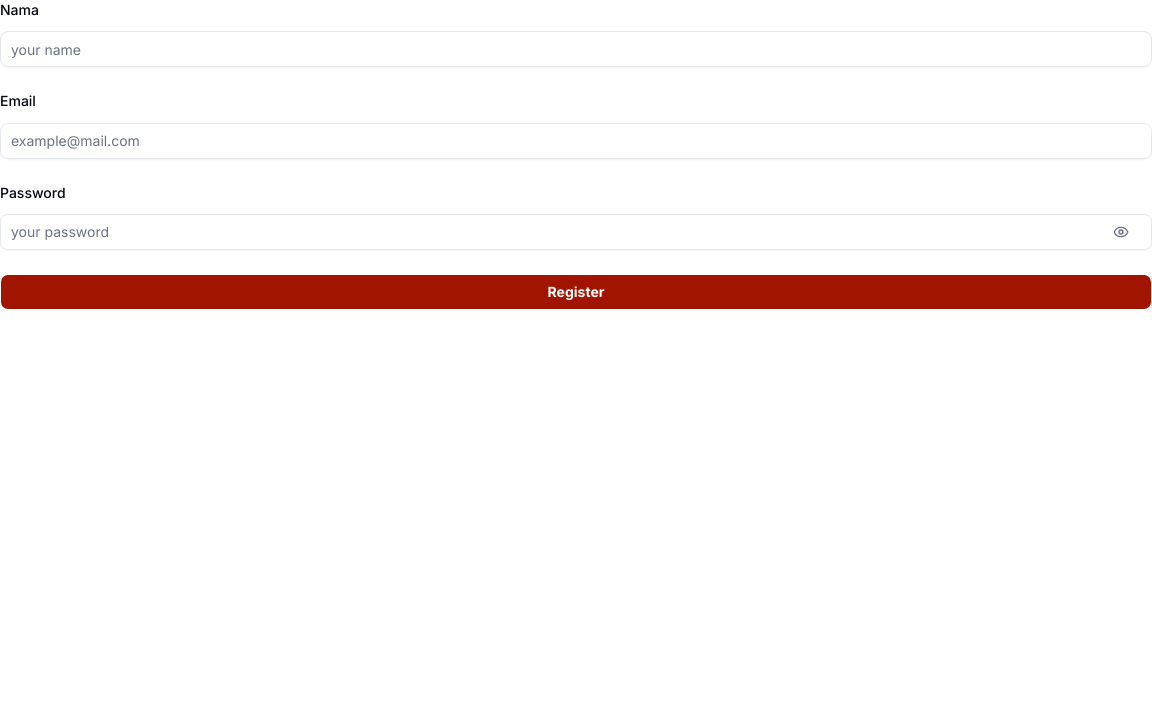
Test: Test Register Success / Failed › should show error dialog when user register failed
# Fill in the form
In the field with placeholder "your name": (576, 49) 0,31 -> 1151,67, type "Jane Doe"
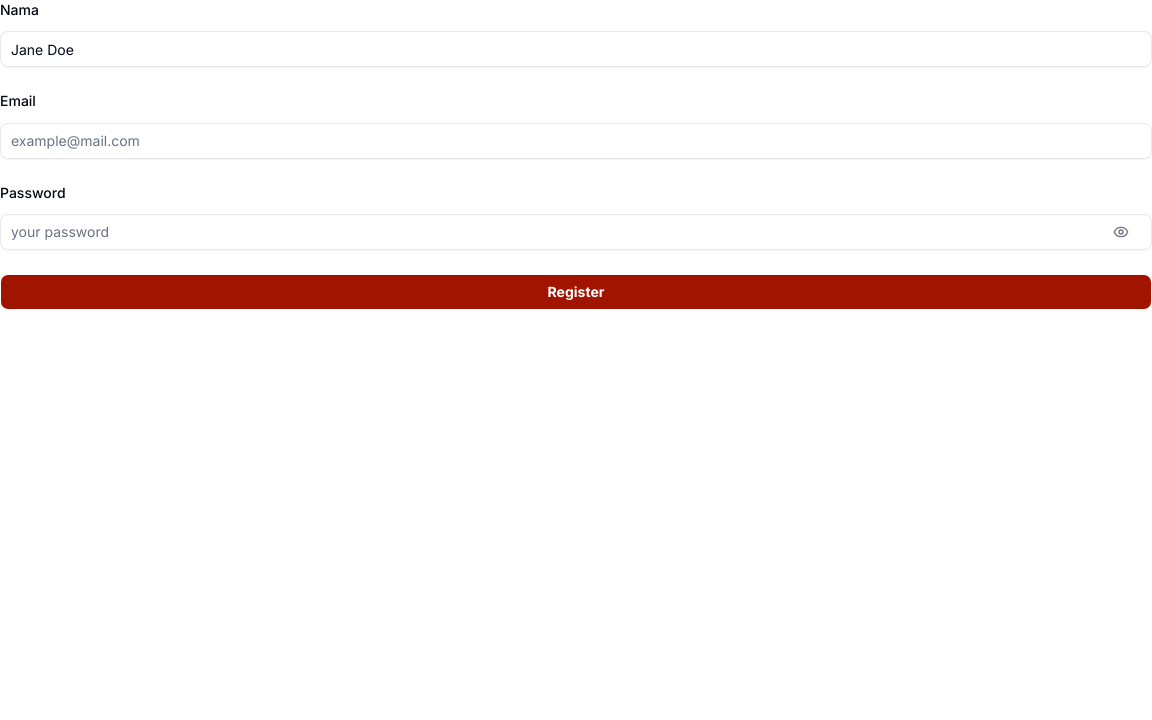
In the field with placeholder "example@mail.com": (576, 140) 0,122 -> 1151,158, type "existing@example.com"
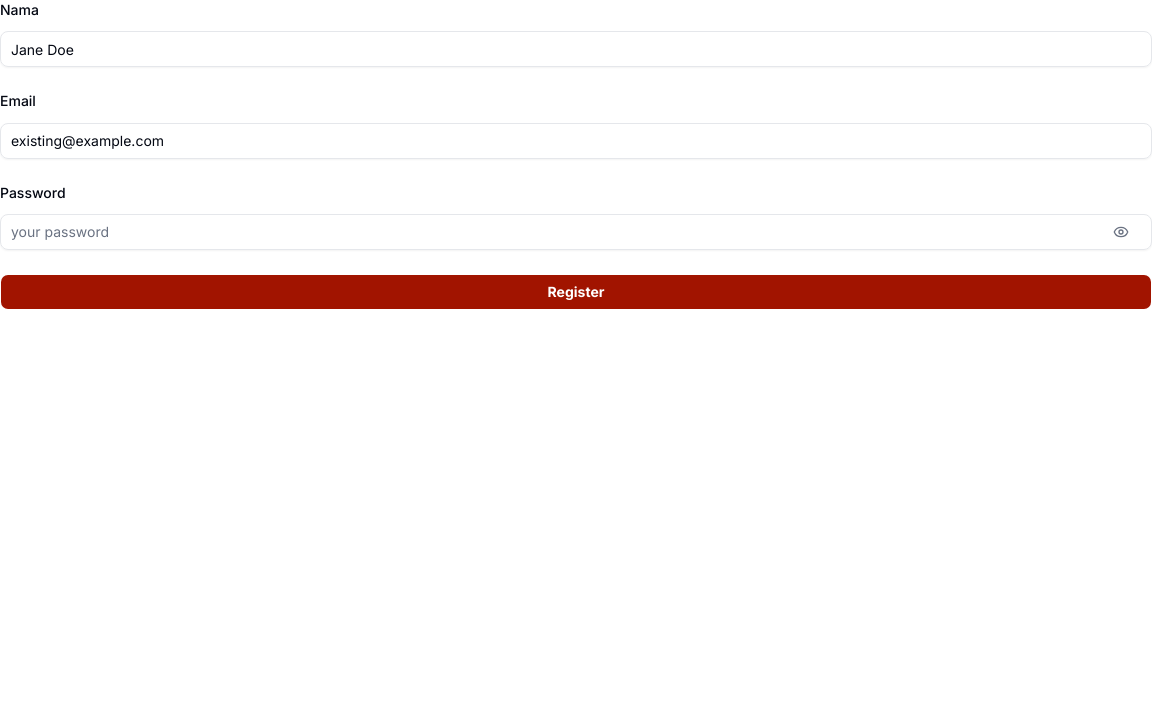
In the password field with placeholder "your password": (576, 232) 0,214 -> 1151,250, type "password123"
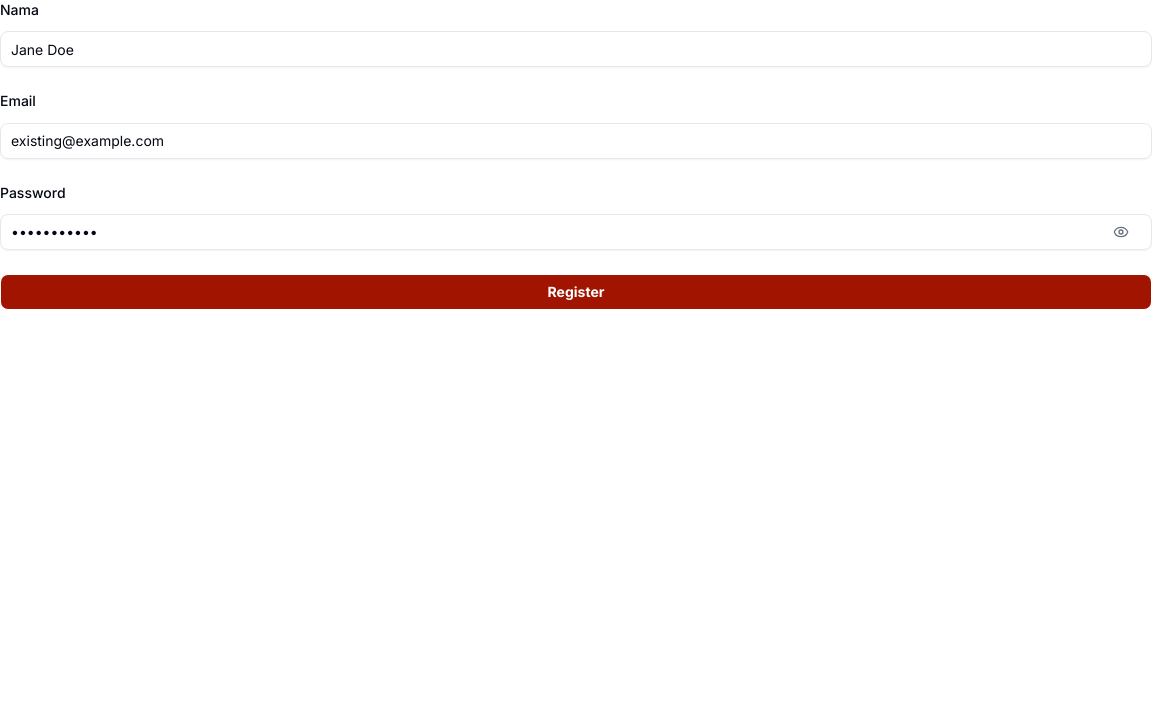
# Submit the form
Click the button "Register": (576, 292) 0,274 -> 1151,310
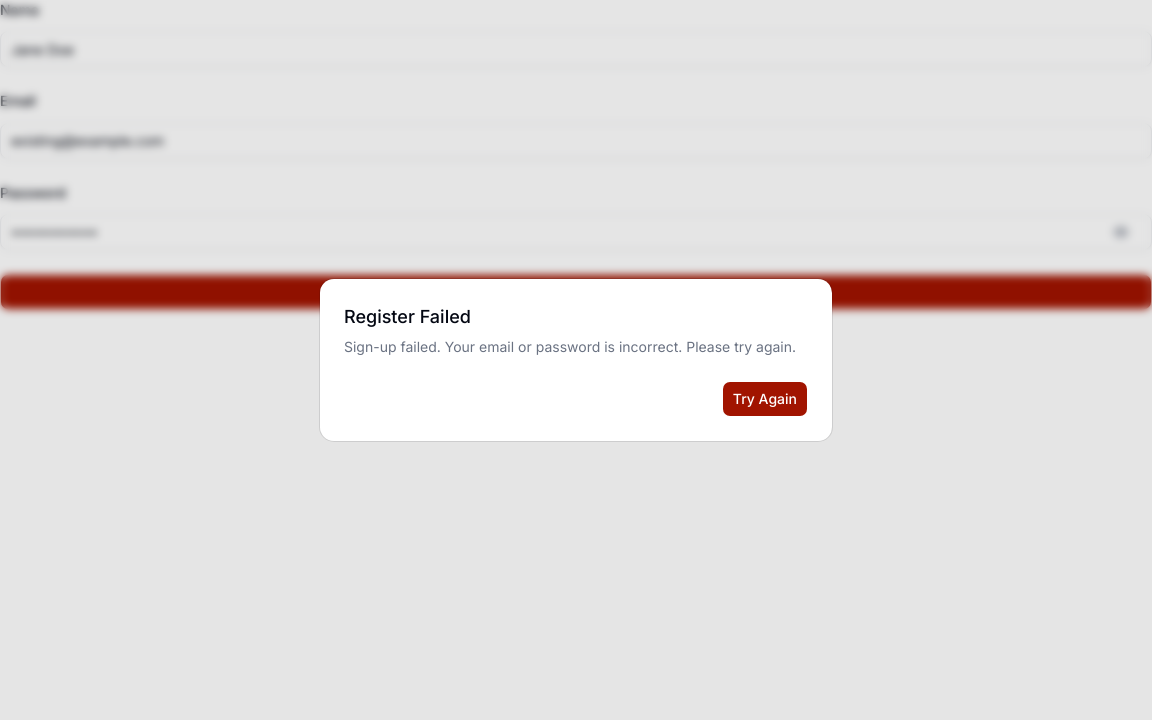
Expected: the heading "Register Failed" is shown, 344,303 -> 471,331
Expected: the text "Sign-up failed" is shown, 344,338 -> 796,355
